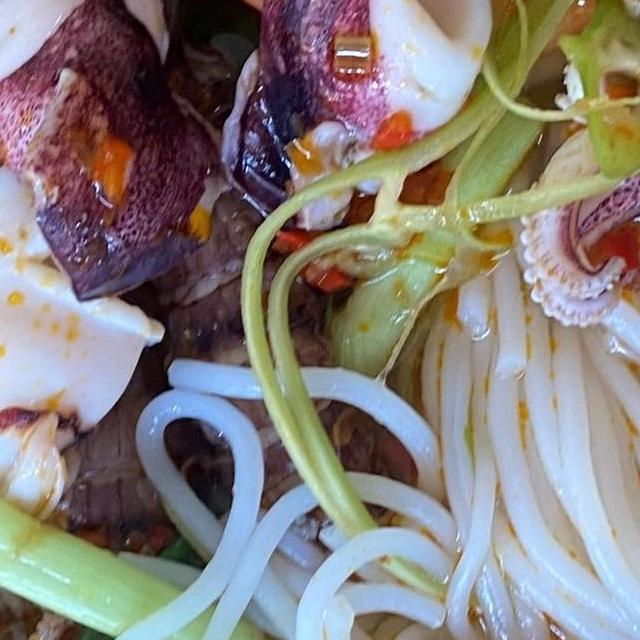bun: (90, 193, 640, 640)
muc: (186, 0, 511, 253), (0, 0, 226, 314), (507, 23, 640, 346)
tom tit: (133, 19, 422, 560), (30, 310, 201, 592), (0, 108, 81, 640)
